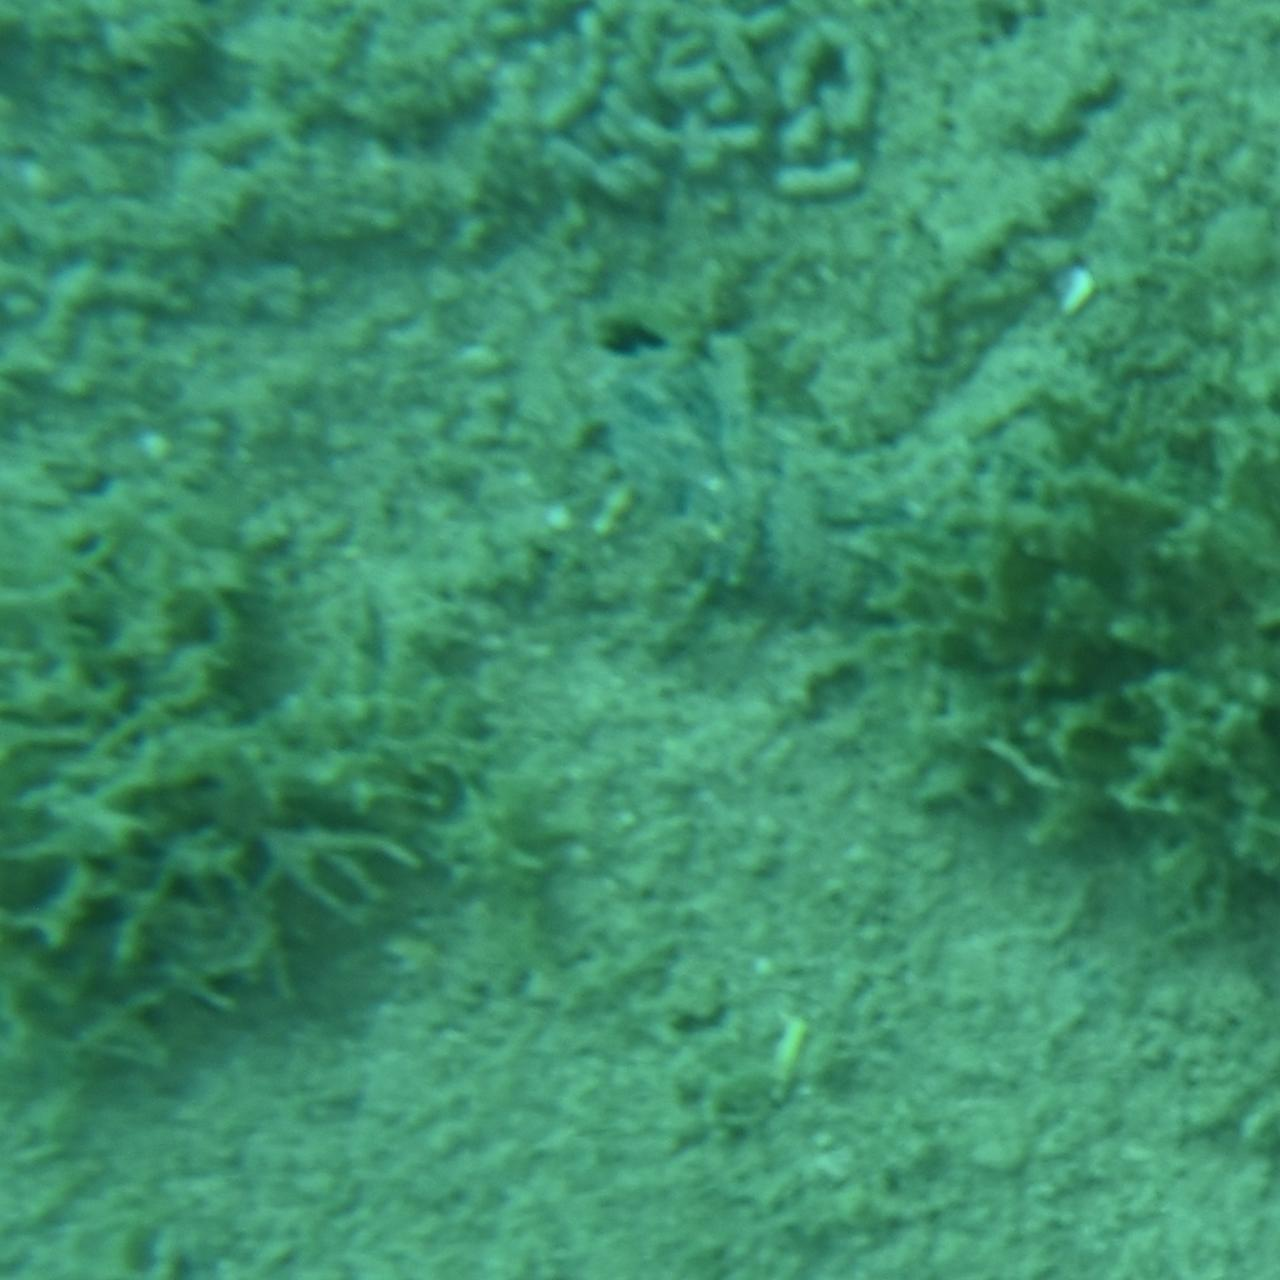Holothuria tubulosa: (578, 300, 1178, 645)
Phaeophyceae -cfr Cystoseira-: (0, 505, 493, 1111), (865, 384, 1280, 956)
